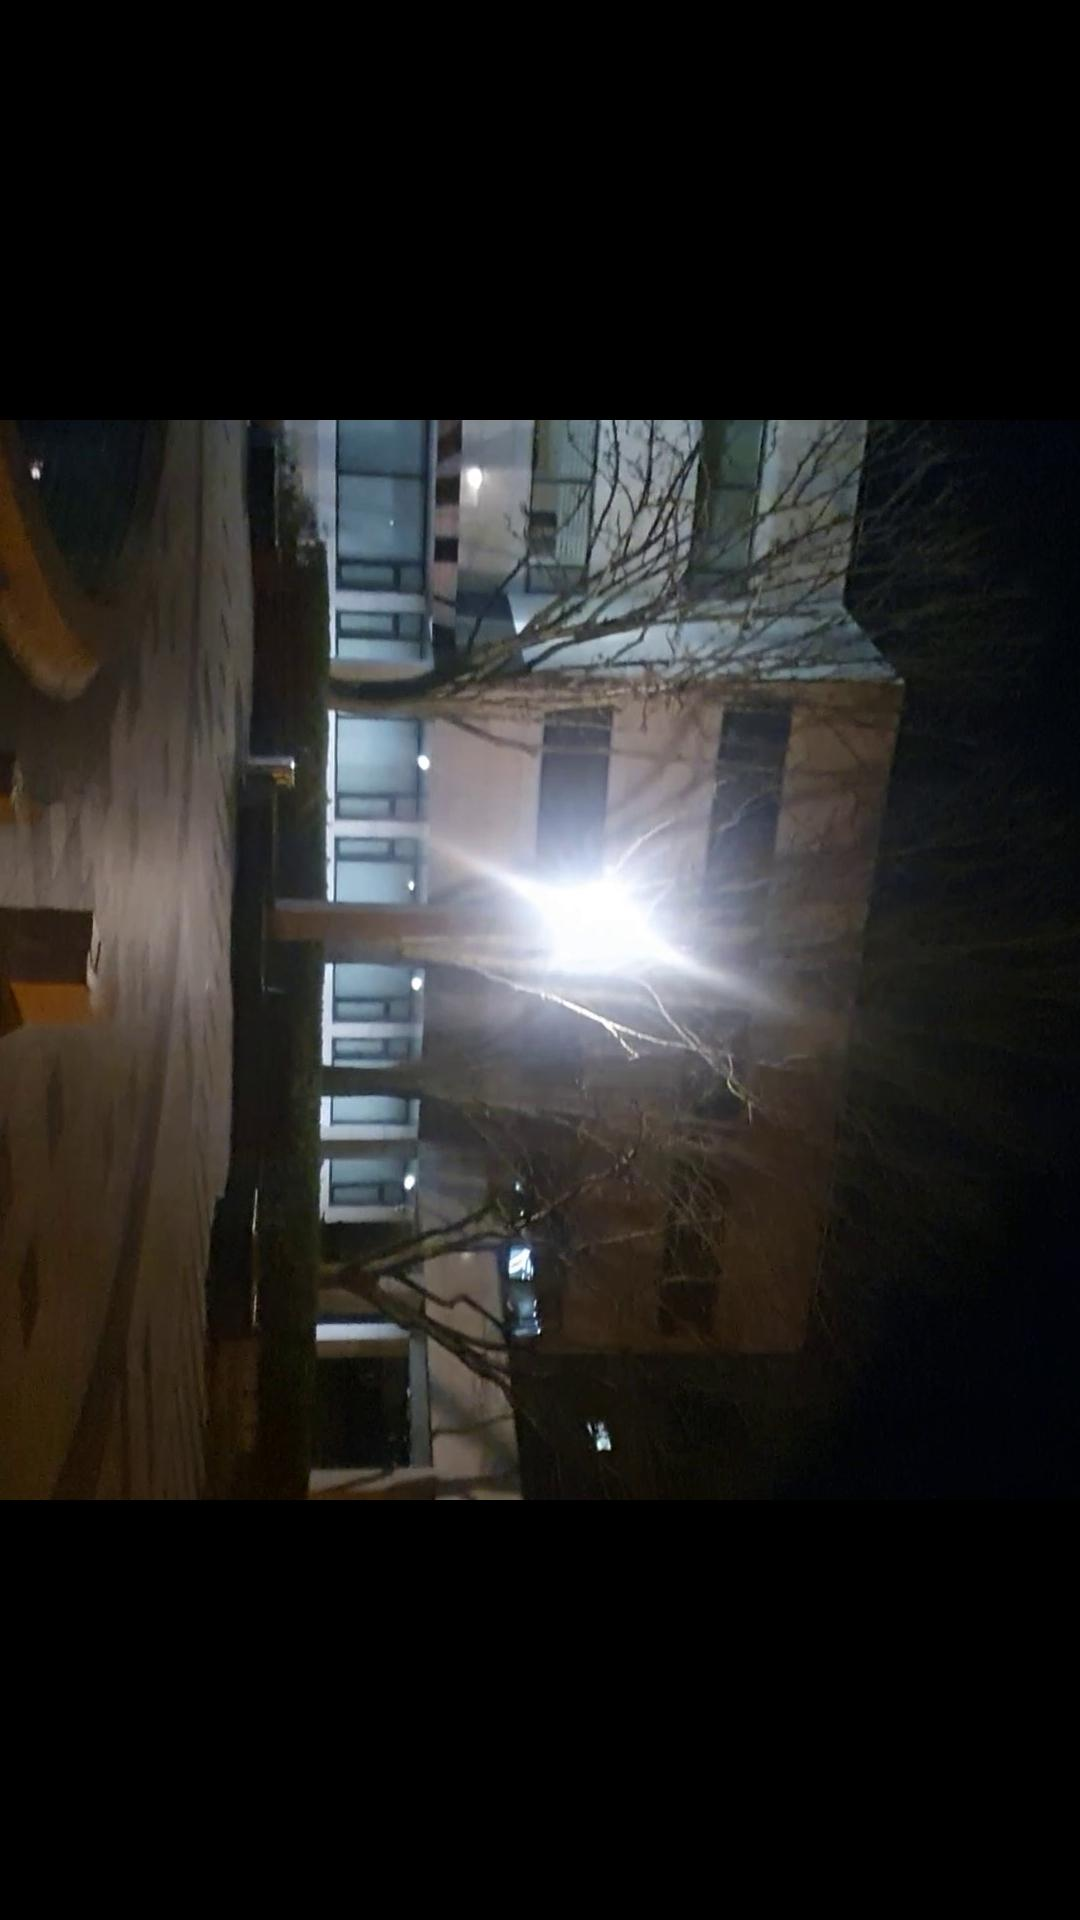Box: (0, 898, 120, 1033), (0, 741, 36, 825)
